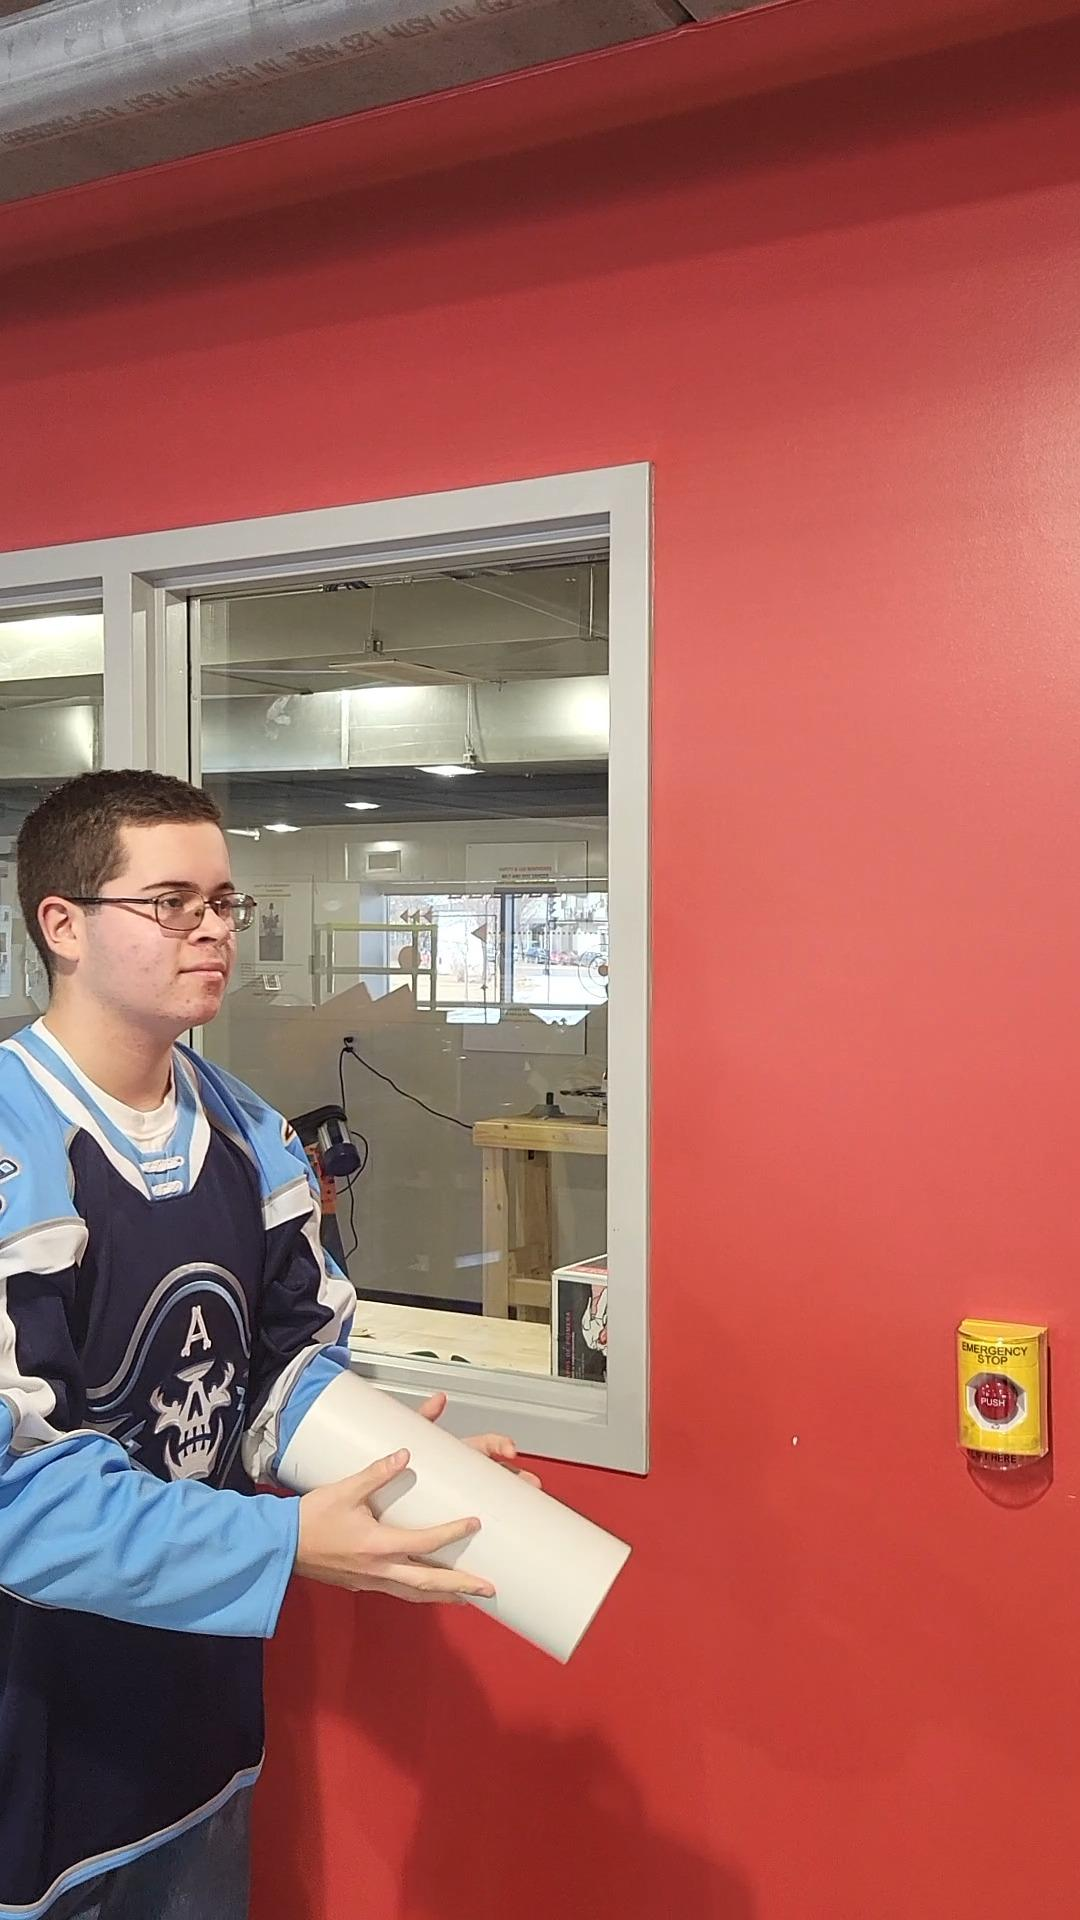coral: (273, 1366, 633, 1664)
